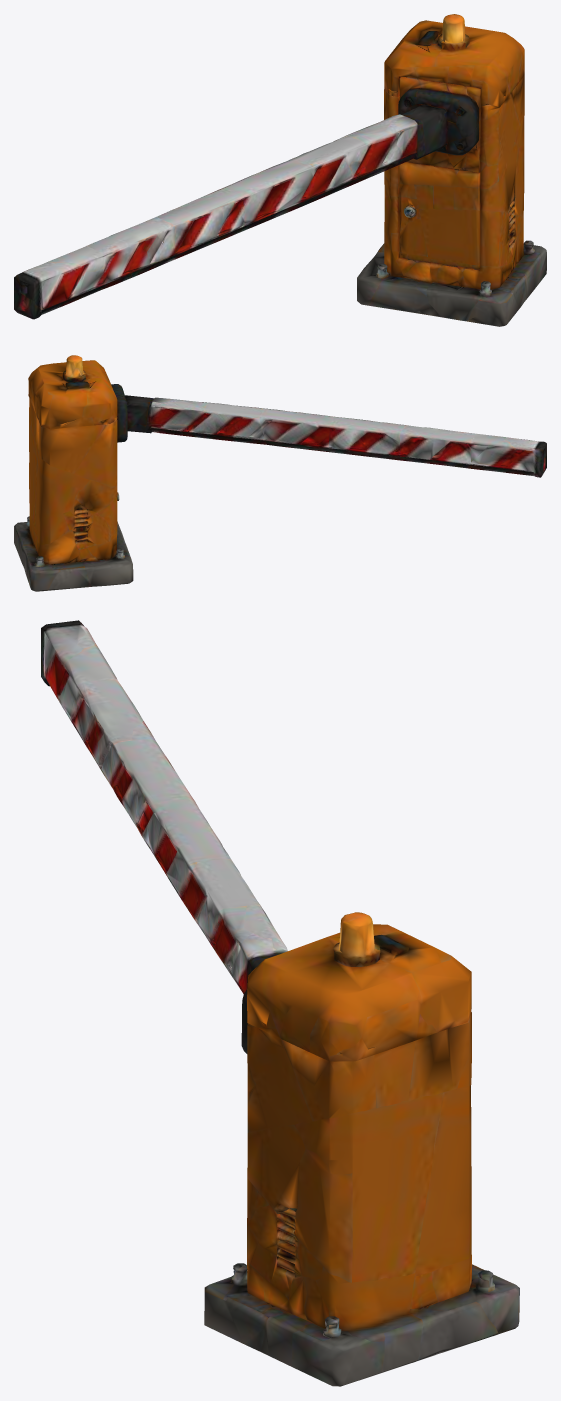
Rendered from veh-d-boom.glb.
3 views of the same model, one above another, from view 1: azimuth 30°, elevation 25°; view 2: azimuth 150°, elevation 25°; view 3: azimuth 270°, elevation 25° (orthographic). The views are drawn at different scales.
Visible parts, largest first — view 1: tripo_node_a165ba93-83dc-4c42-a61e-6fea87bb46b9; view 2: tripo_node_a165ba93-83dc-4c42-a61e-6fea87bb46b9; view 3: tripo_node_a165ba93-83dc-4c42-a61e-6fea87bb46b9.
Boxes of the visible parts, left/top/right/bottom form: tripo_node_a165ba93-83dc-4c42-a61e-6fea87bb46b9: left=14, top=14, right=546, bottom=326; tripo_node_a165ba93-83dc-4c42-a61e-6fea87bb46b9: left=14, top=355, right=546, bottom=591; tripo_node_a165ba93-83dc-4c42-a61e-6fea87bb46b9: left=41, top=620, right=519, bottom=1386.
Bounding box in the file's own units: 0.9795 × 0.4155 × 0.4393.
1 material, 1 textured.
